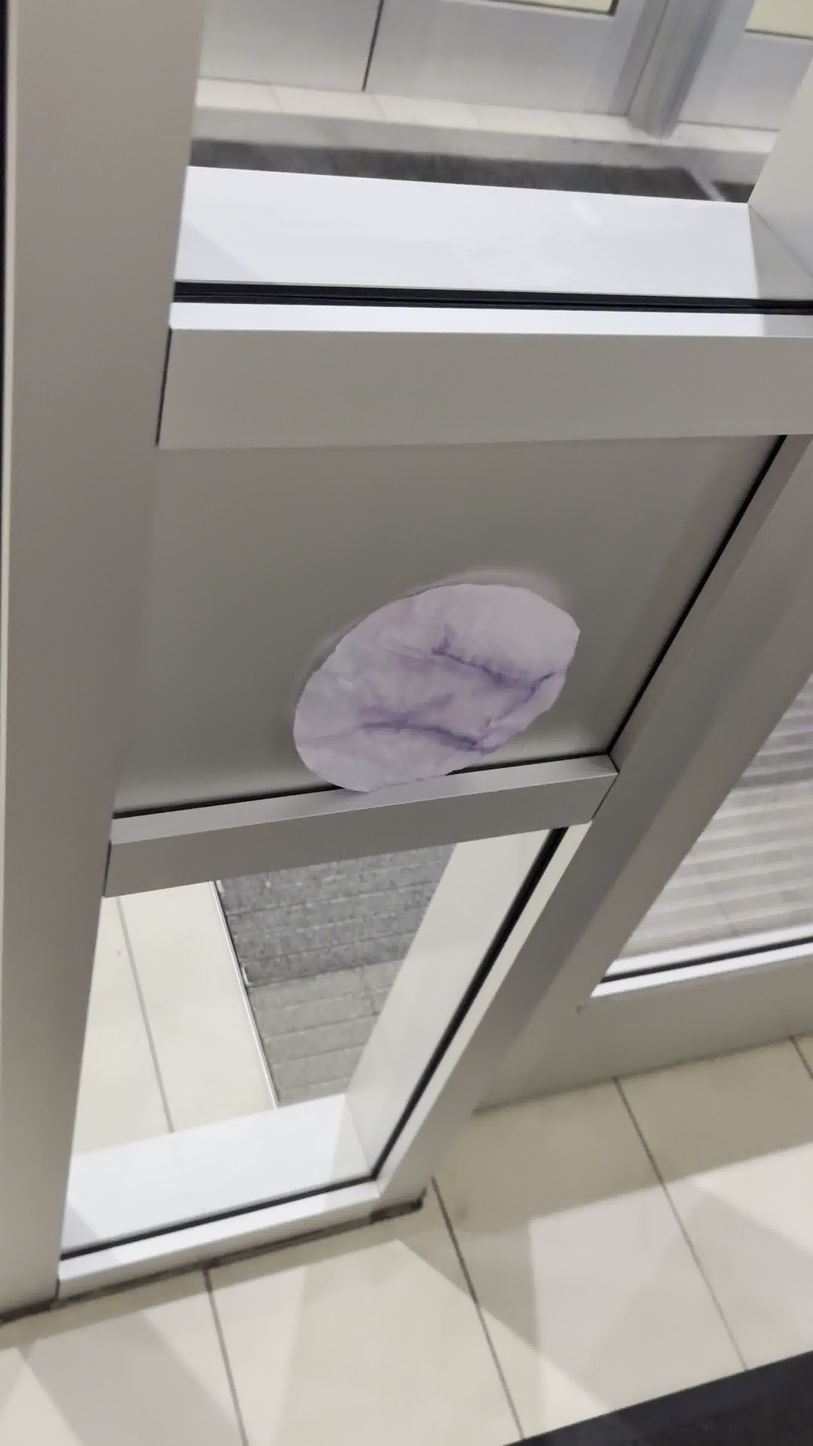Target: (288, 578, 586, 800)
